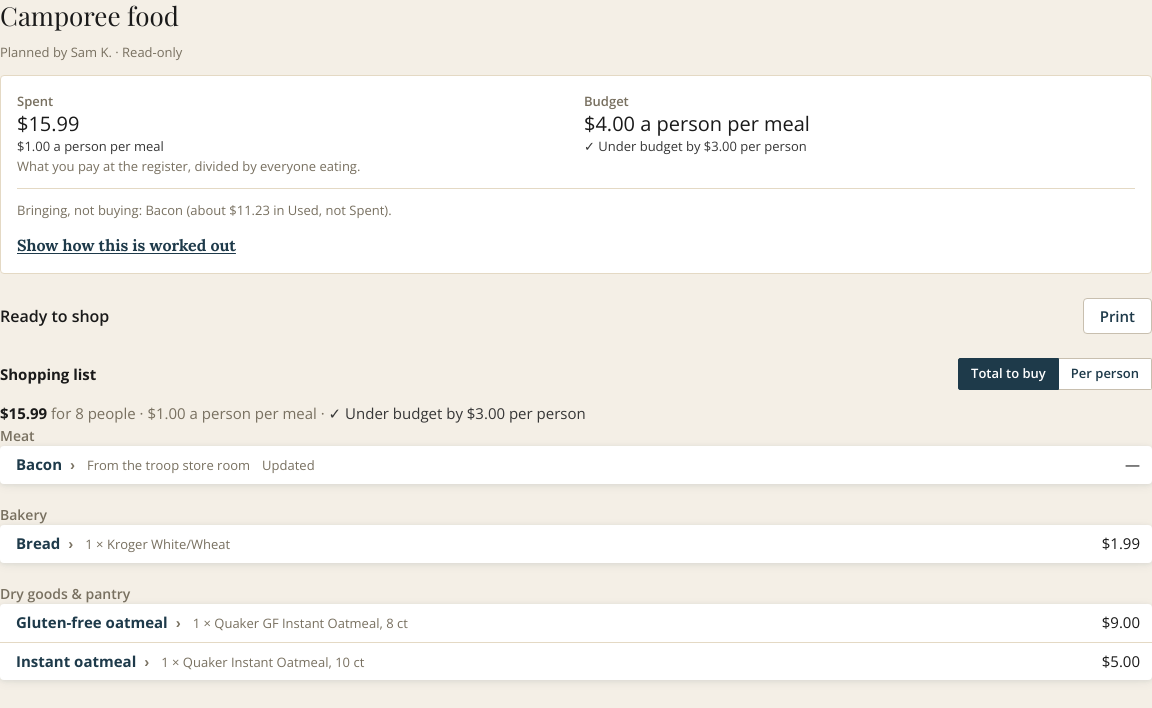
Shopping tab, read-only: where a line comes from › Leader_SeesTroopPantry_WhenTheLineComesFromThePantry
This screenshot has width=1152, height=708.
Click the button "Bacon ›".
click(46, 465)  # box x1=16 y1=453 x2=75 y2=476
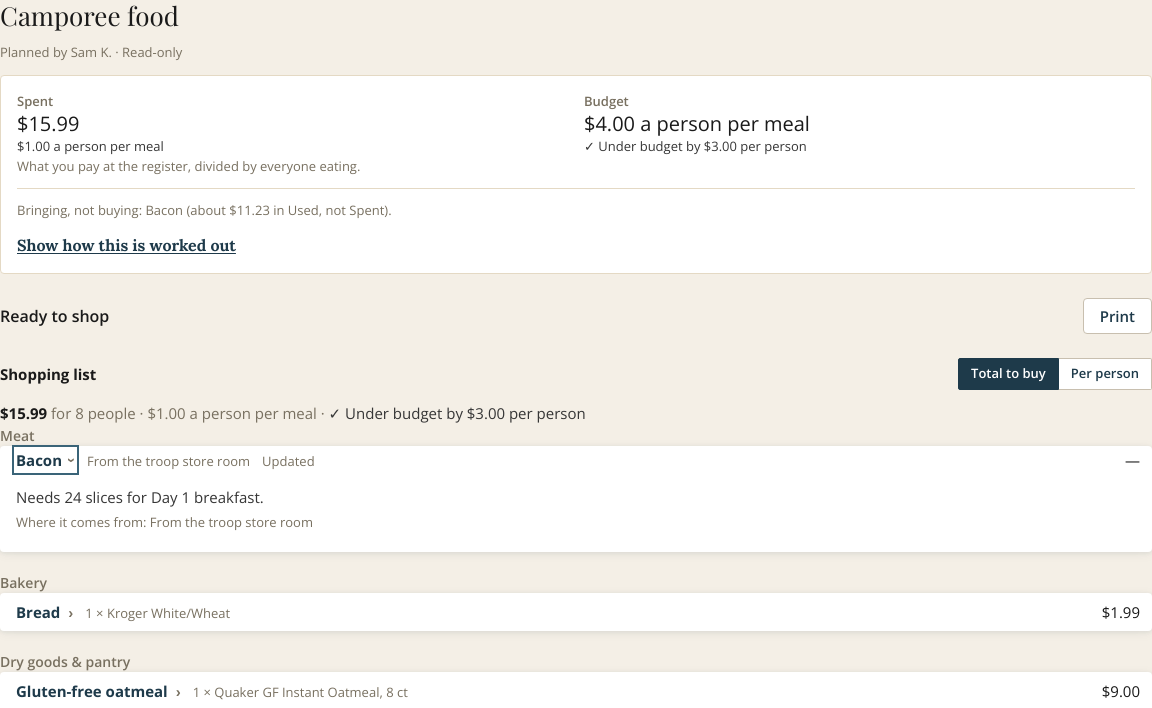
Now the text "Where it comes from: From the troop store room" is shown, box x1=16 y1=513 x2=313 y2=531
